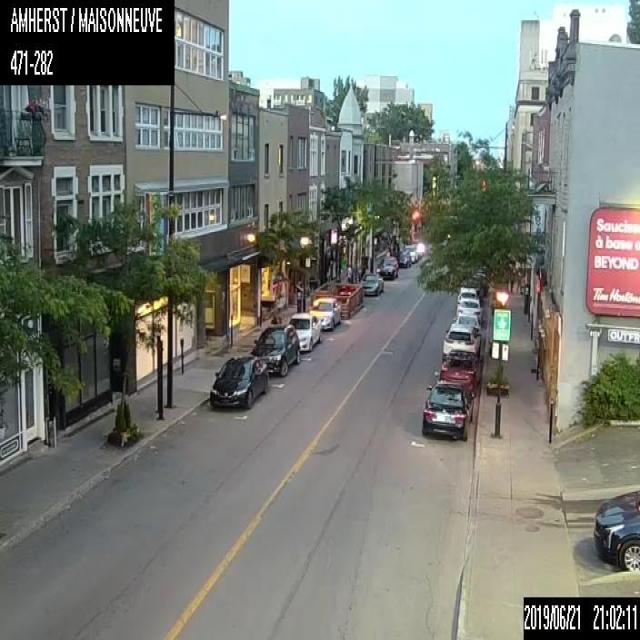vehicle: (590, 488, 639, 572), (420, 382, 476, 440), (209, 356, 268, 408), (248, 324, 300, 375), (438, 350, 476, 395), (442, 322, 480, 361), (288, 312, 321, 352), (309, 296, 341, 332), (456, 297, 482, 321), (360, 272, 383, 296), (456, 312, 480, 334), (375, 259, 398, 279), (456, 286, 479, 305), (396, 250, 410, 268)
